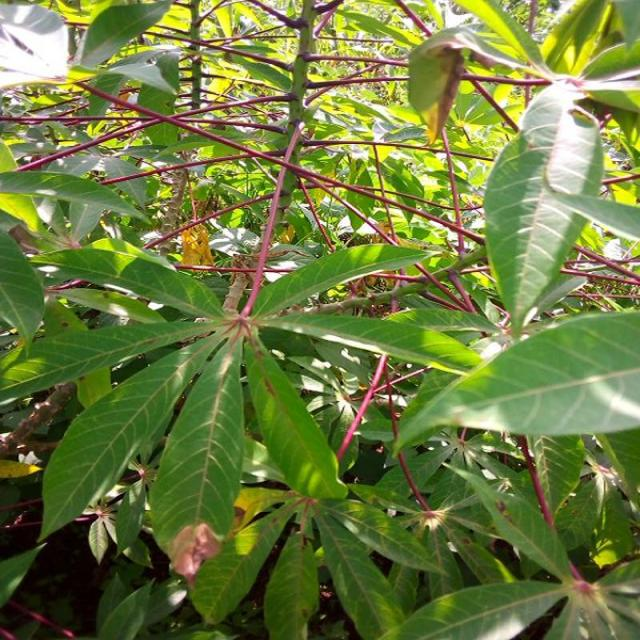cassava leaf: (389, 308, 638, 456), (482, 80, 605, 336), (148, 331, 245, 565)
